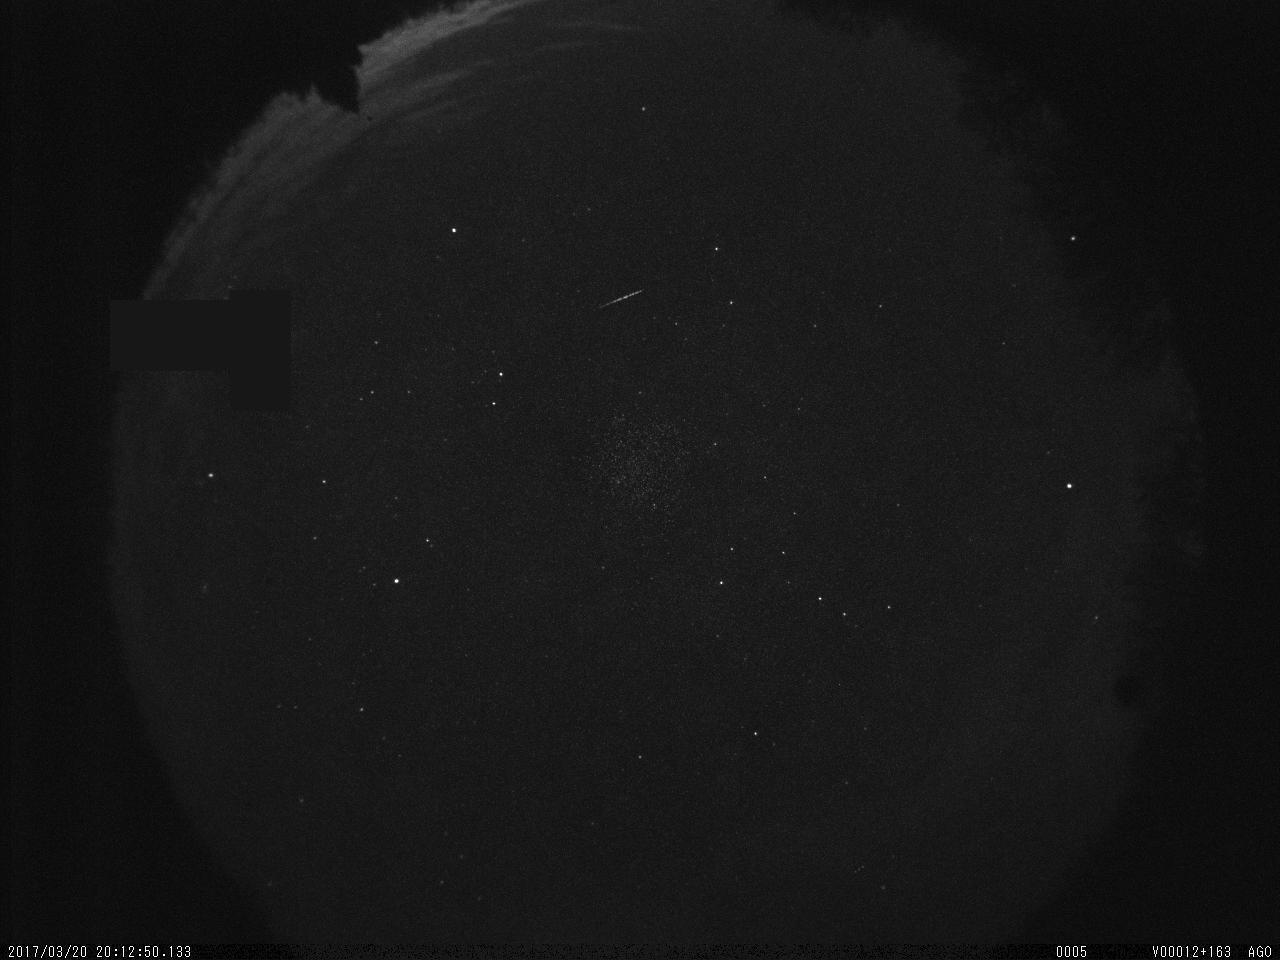meteor: (585, 278, 650, 319)
